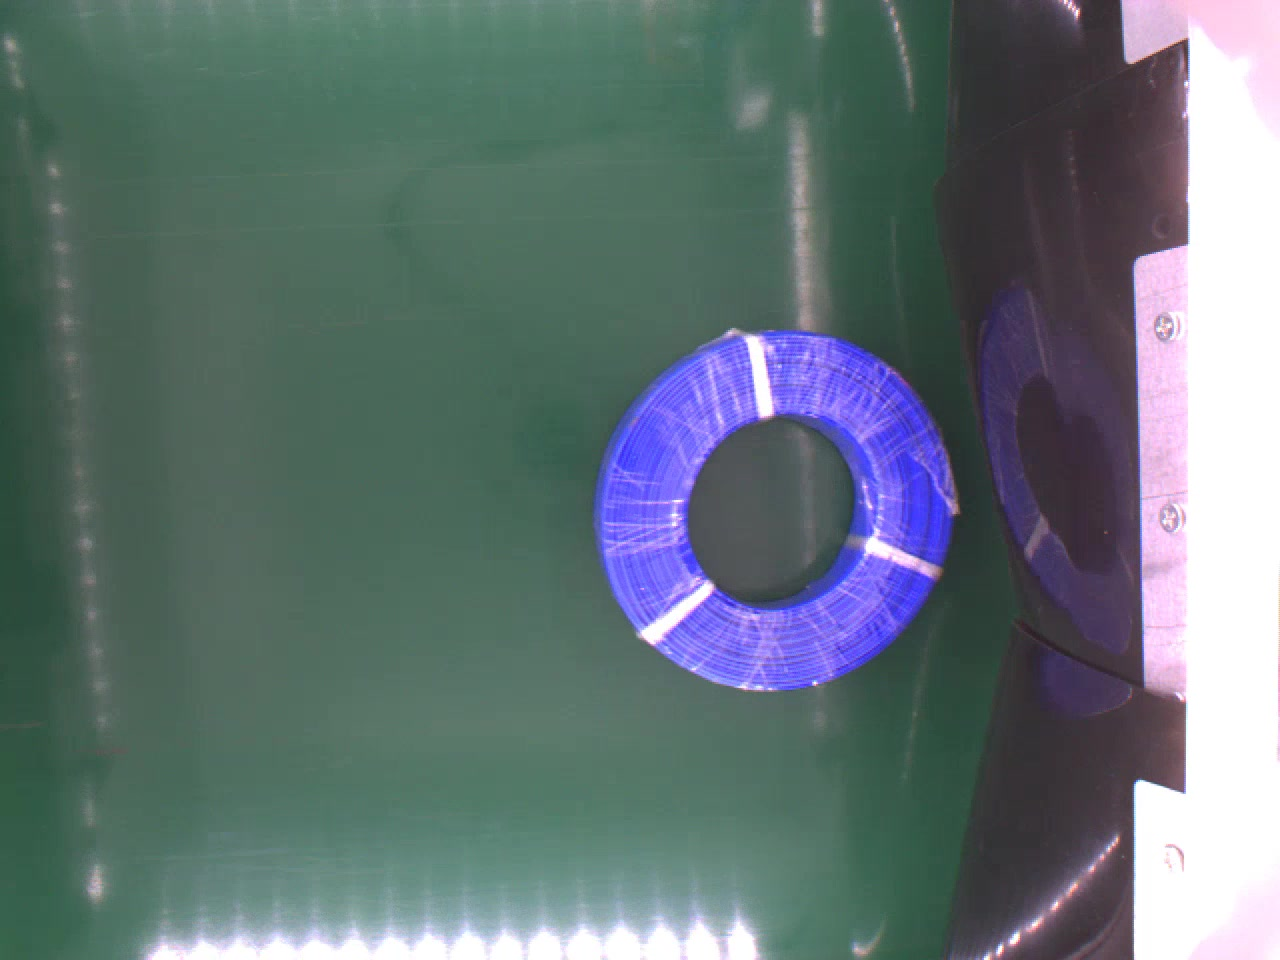blue: (599, 323, 954, 692)
